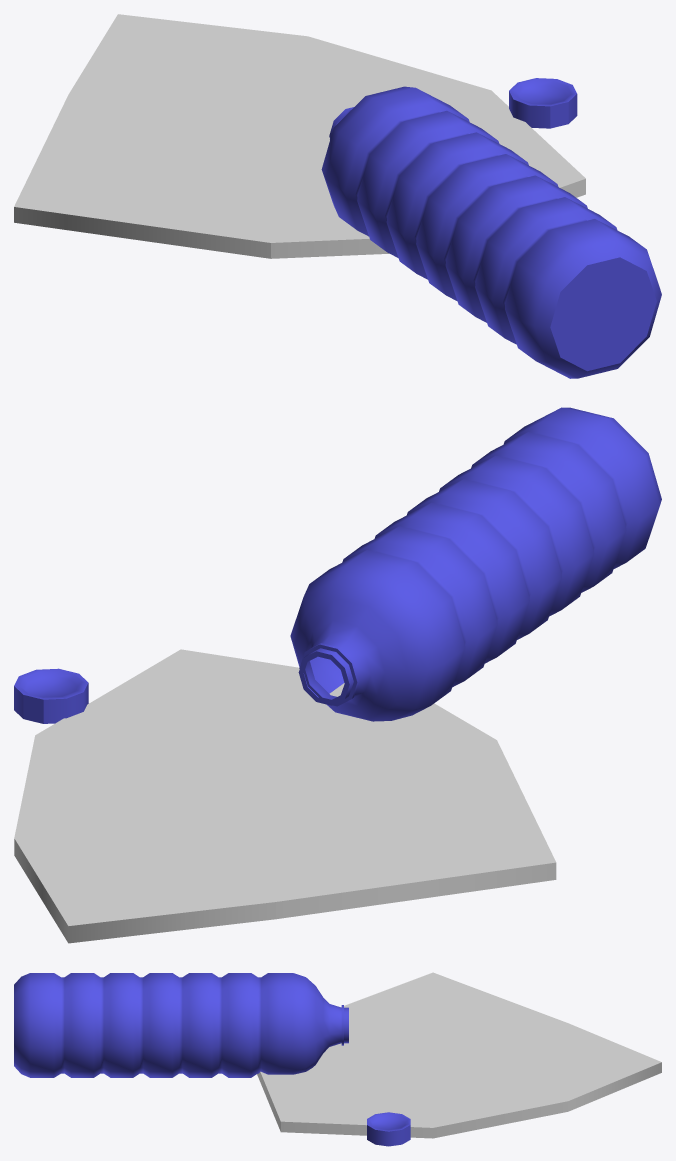
File: waterbottle_prototype.fbx
The picture shows the model from 3 angles, top to bottom: view 1: azimuth 30°, elevation 25°; view 2: azimuth 150°, elevation 25°; view 3: azimuth 270°, elevation 25°; orthographic projection. The views are drawn at different scales.
Visible parts, largest first — view 1: Box003, Cylinder011, Object001; view 2: Box003, Cylinder011, Object001; view 3: Box003, Cylinder011, Object001.
Part boxes in pixels (left/top/right/bottom): Box003: left=14, top=14, right=585, bottom=258; Cylinder011: left=321, top=86, right=661, bottom=378; Object001: left=509, top=78, right=577, bottom=128; Box003: left=14, top=649, right=556, bottom=943; Cylinder011: left=290, top=407, right=661, bottom=721; Object001: left=14, top=668, right=88, bottom=723; Box003: left=257, top=972, right=661, bottom=1138; Cylinder011: left=14, top=973, right=348, bottom=1077; Object001: left=367, top=1112, right=410, bottom=1146.
Bounding box in the file's own units: 67.67 × 17.14 × 108.
